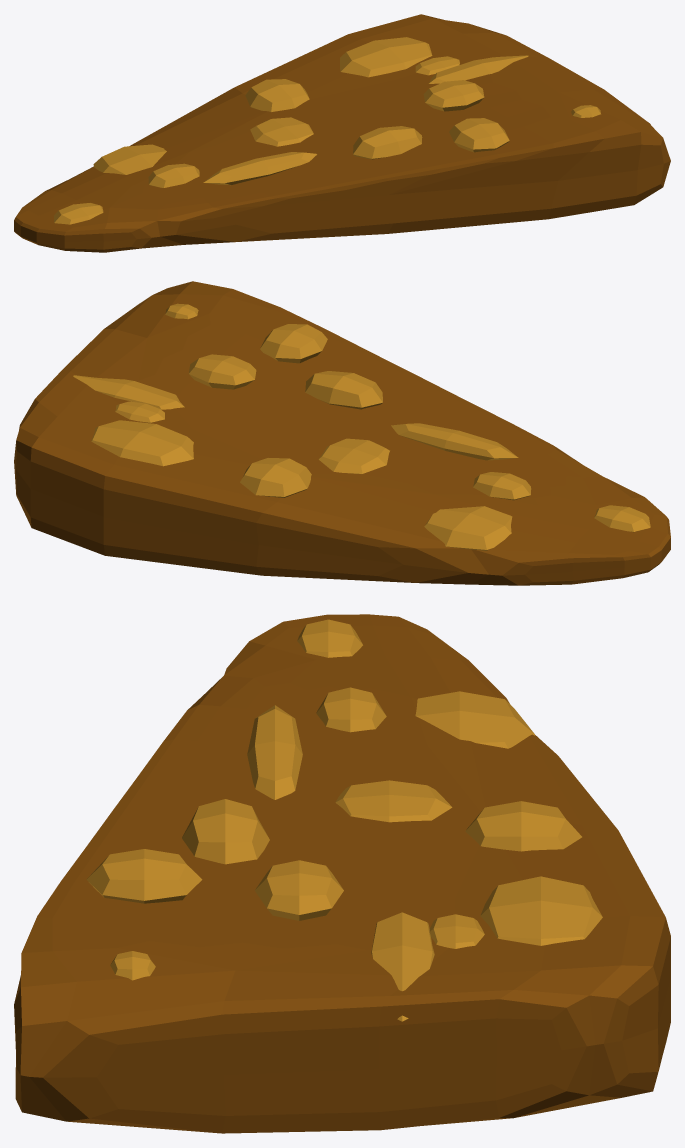
The model's file is PeanutBrittle.fbx.
3 renders of one model, top to bottom at view 1: azimuth 30°, elevation 25°; view 2: azimuth 150°, elevation 25°; view 3: azimuth 270°, elevation 25°, orthographic. The views are drawn at different scales.
Visible parts, largest first — view 1: Cube; view 2: Cube; view 3: Cube.
Part boxes in pixels (<box>): Cube: <box>14,14,670,252</box>; Cube: <box>14,281,670,585</box>; Cube: <box>14,614,670,1133</box>.
Size of the model in its own units: 466 by 79.28 by 277.
